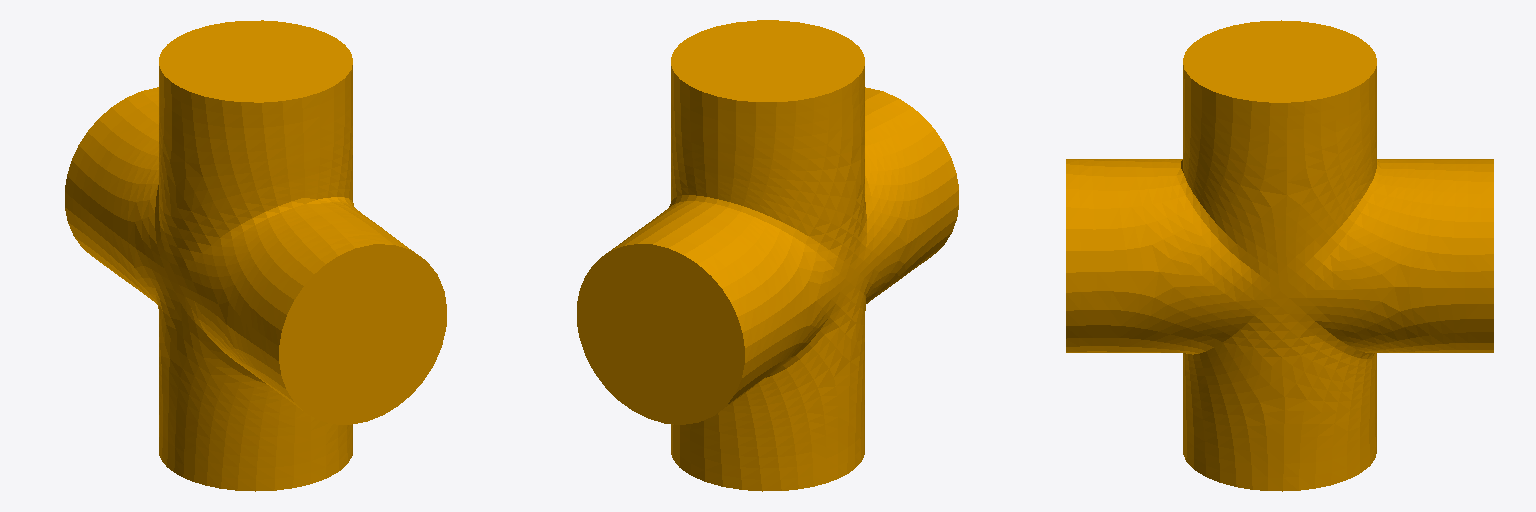
The robot description file, URDF, robot "object":
<robot name="object">
  <link name="object">
    <visual>
      <origin xyz="0 0 0"/>
      <geometry>
        <mesh filename="visual.obj" scale="1 1 1"/>
      </geometry>
    </visual>
    <collision>
      <origin xyz="0 0 0"/>
      <geometry>
        <mesh filename="visual.obj" scale="1 1 1"/>
      </geometry>
    </collision>
    <inertial>
      <mass value="0.05"/>
      <inertia ixx="5.1771368253753855e-05" iyy="3.206641183458723e-05" izz="3.206174492414683e-05" ixy="-5.570905370851024e-09" ixz="-1.3343997751193442e-09" iyz="-5.339464133495831e-09"/>
    </inertial>
  </link>
</robot>

--- Facts derived from the render (not from the file) ---
3 views of the same robot in one strip: view 1: azimuth 30°, elevation 25°; view 2: azimuth 150°, elevation 25°; view 3: azimuth 270°, elevation 25° (orthographic).
Model object with 1 links and 0 joints (none), rooted at object, posed every joint at zero.
Visible links, largest first — view 1: object; view 2: object; view 3: object.
Link boxes in pixels (x1,y1,x2,y2): object: (65,20,446,491); object: (577,20,958,491); object: (1066,20,1493,491).
Bounding box of the posed robot: 0.0436 × 0.096 × 0.096 m (x, y, z).
Meshes: 1 distinct files referenced, 1 mesh visuals loaded (1 OBJ).
